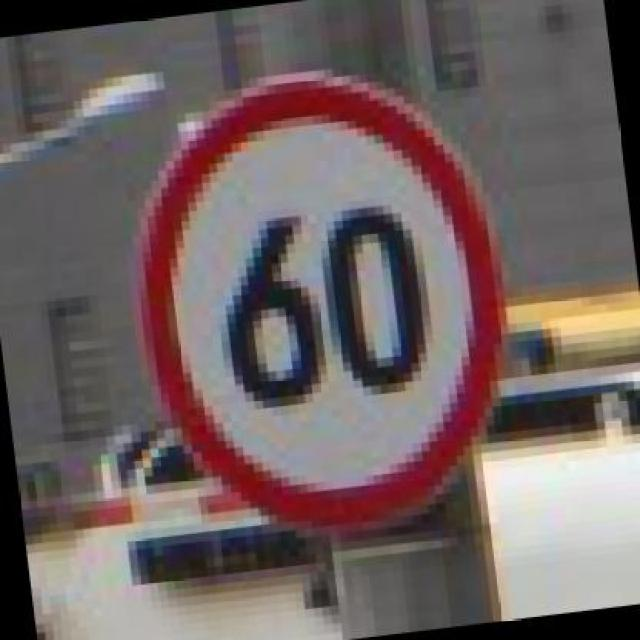Limite-60: (123, 67, 508, 535)
